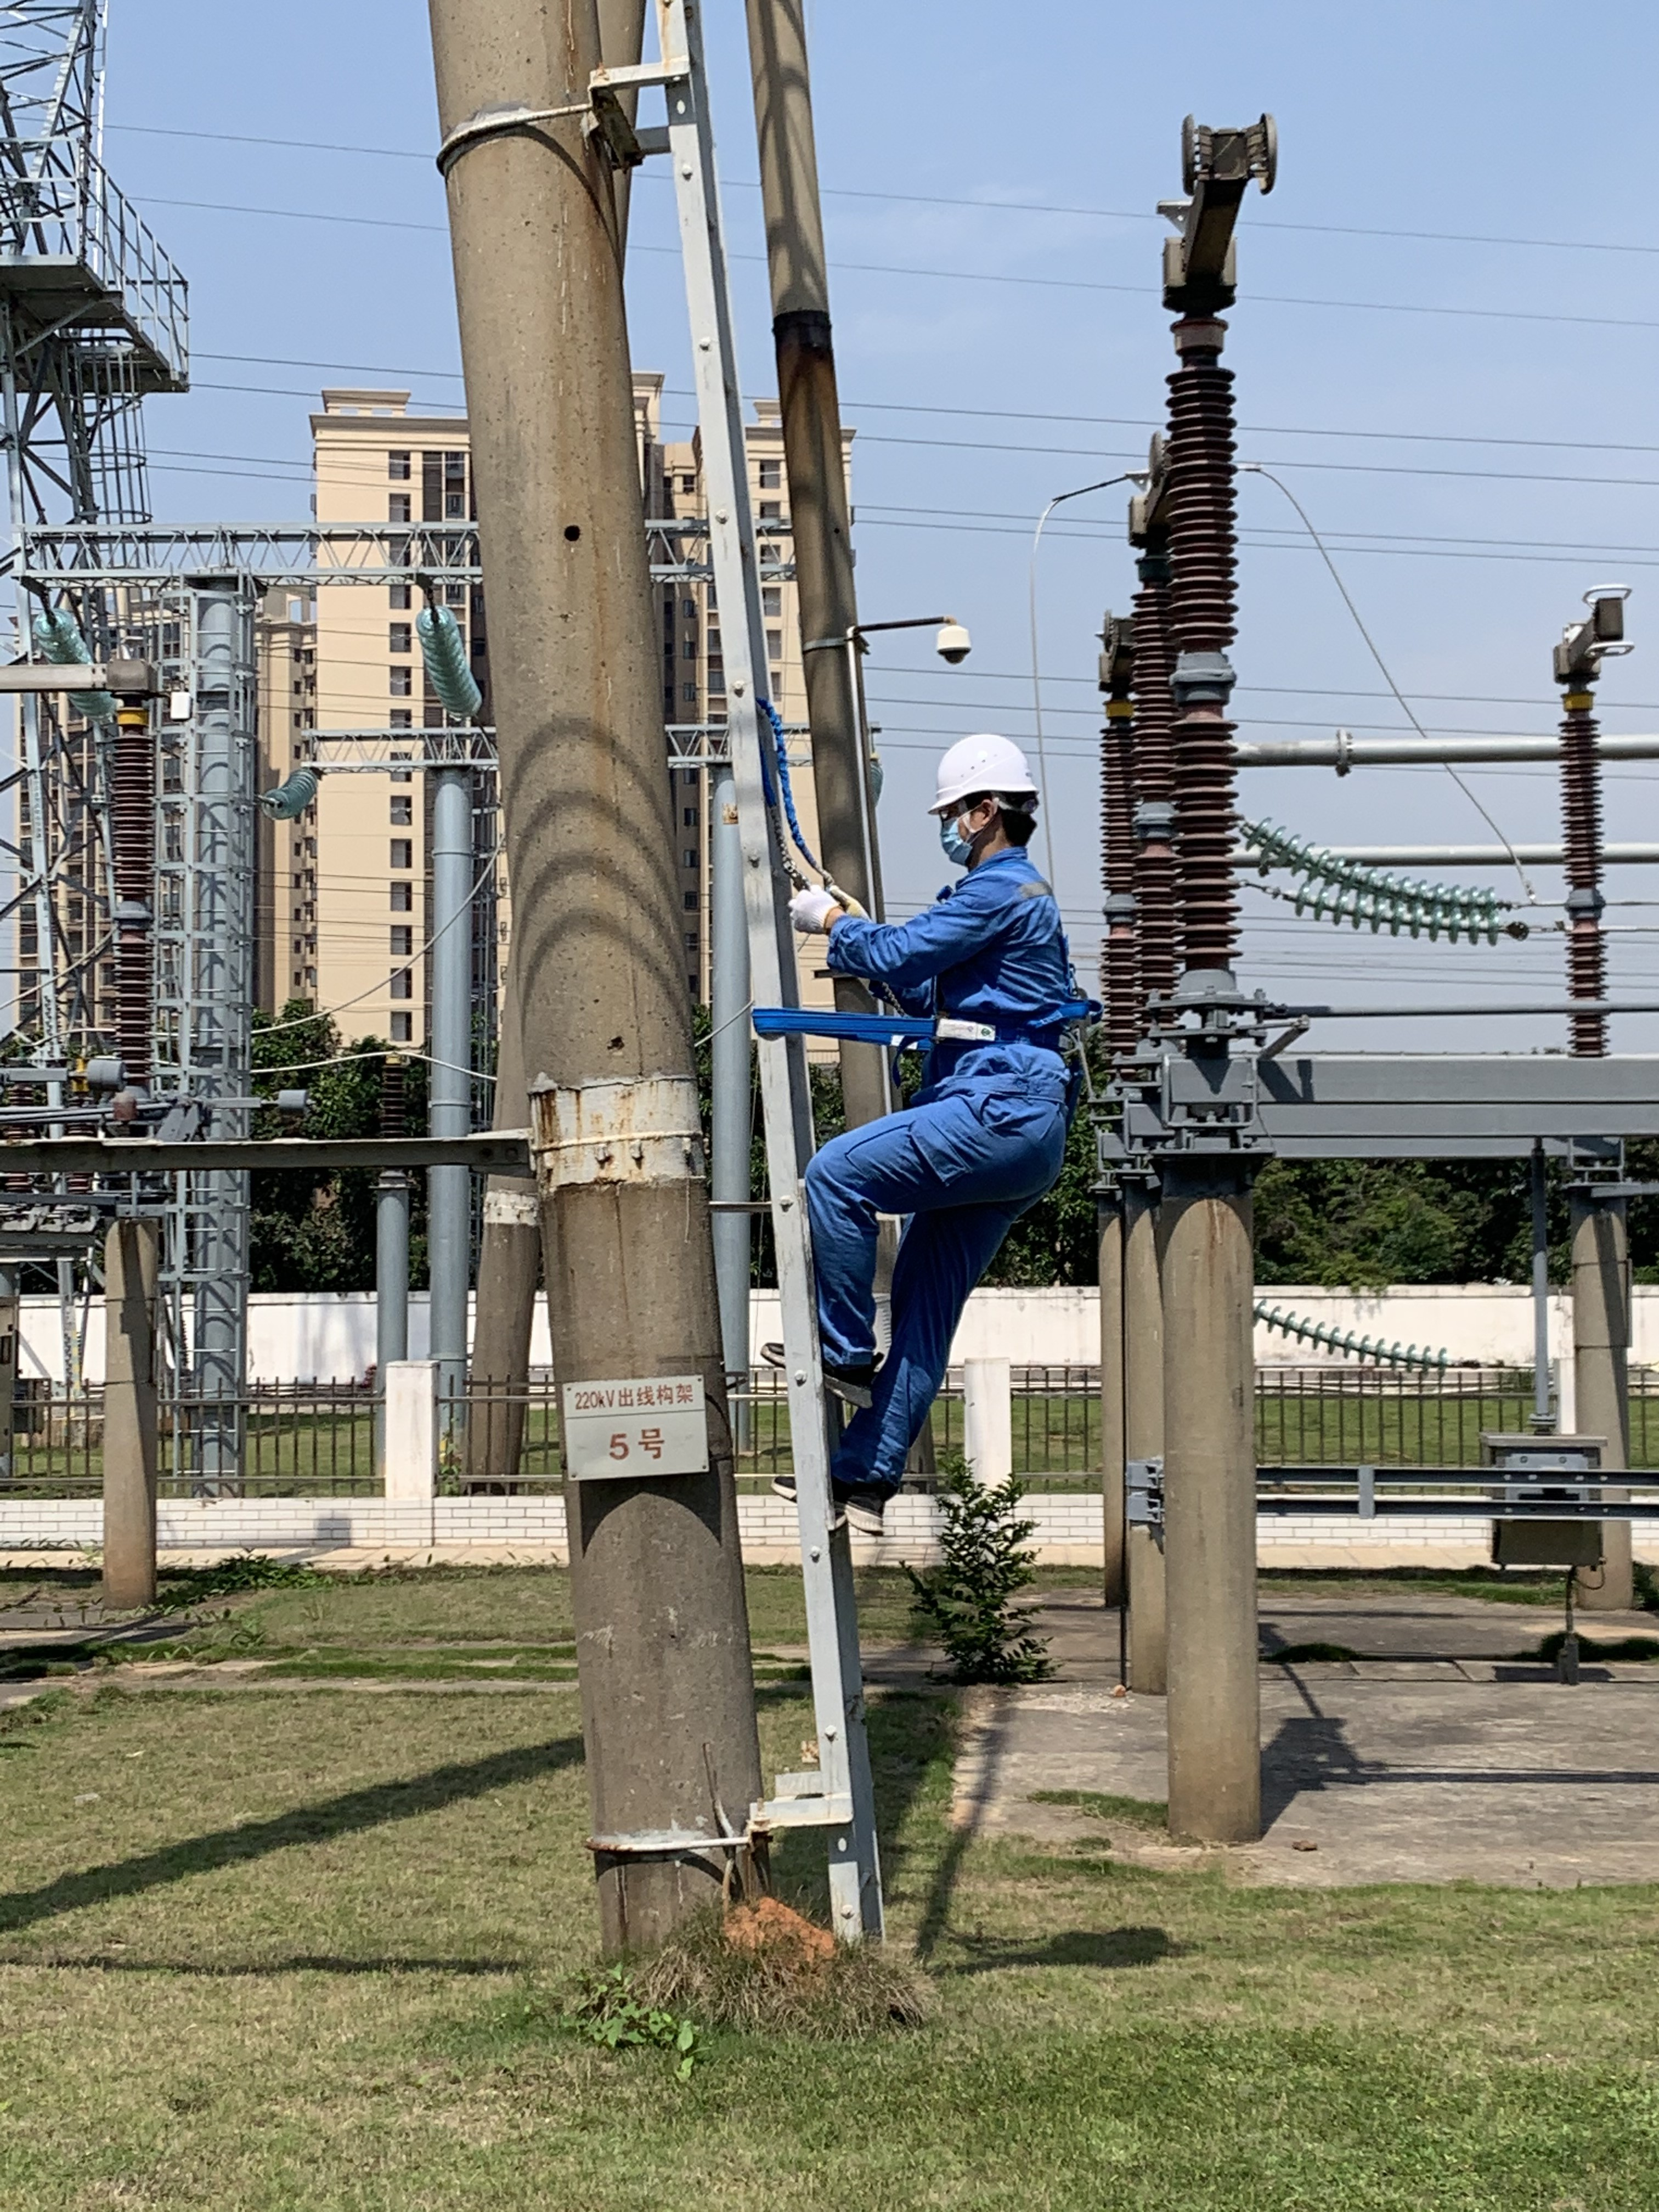downsuit: (810, 1101, 1072, 1475)
upsuit: (828, 848, 1079, 1075)
